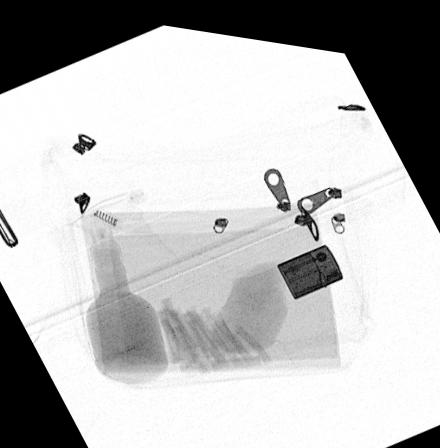Lighter: (275, 232, 343, 289)
